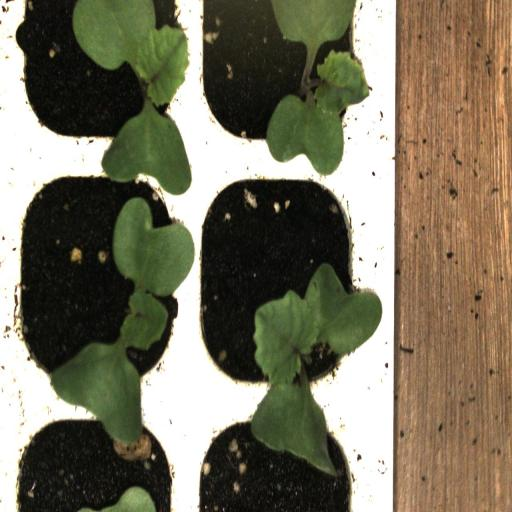Germinacao: (190, 166, 367, 410), (8, 167, 189, 400), (12, 0, 189, 164), (195, 0, 369, 163)
